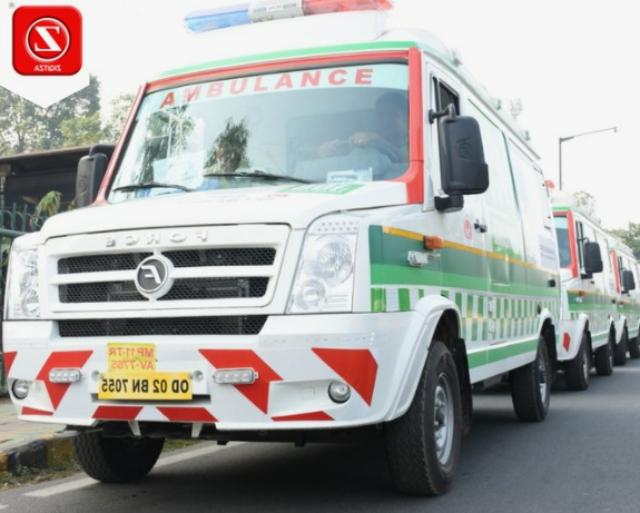ambulance: (0, 0, 560, 497), (552, 200, 617, 391)
